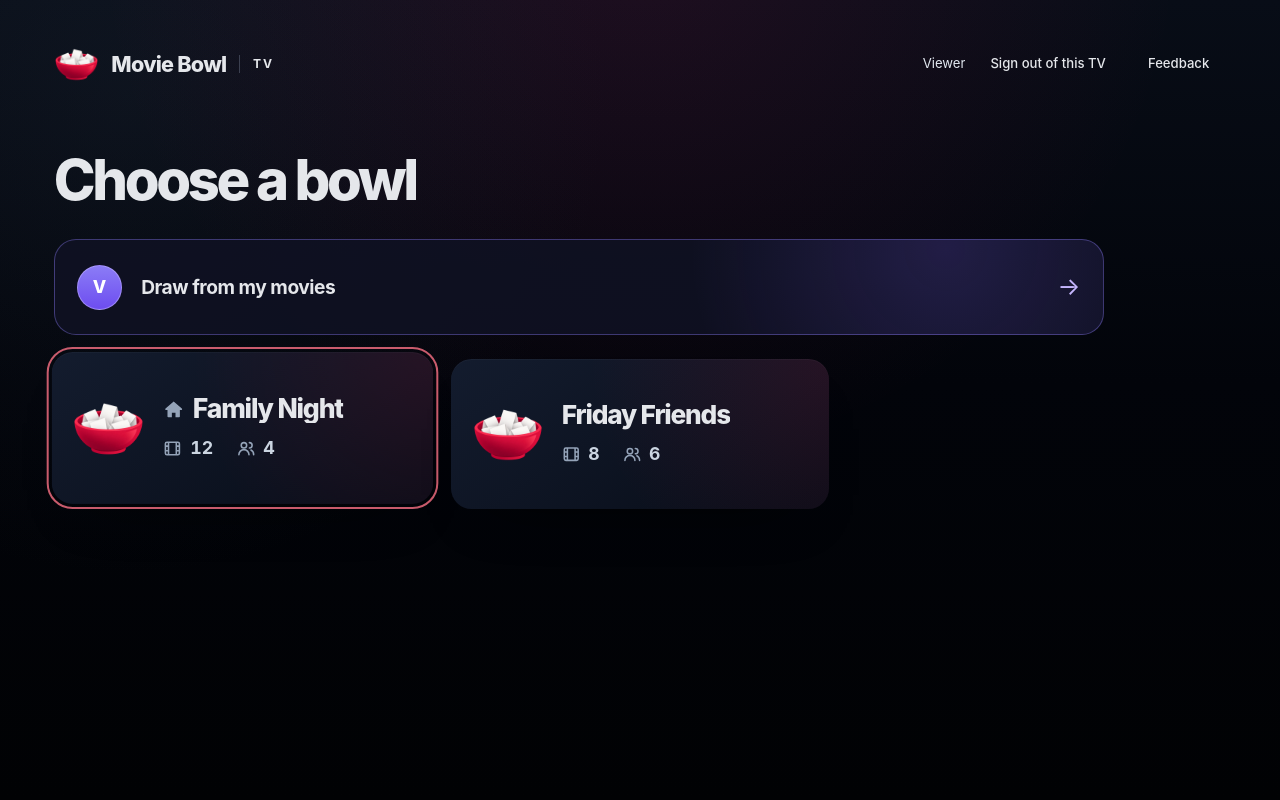
Scenario: Movie Bowl TV experience › shows a code that opens feedback about the TV on a phone, and Back closes it
Click the button "Feedback" at (1179, 64), box [1131,40,1226,88]
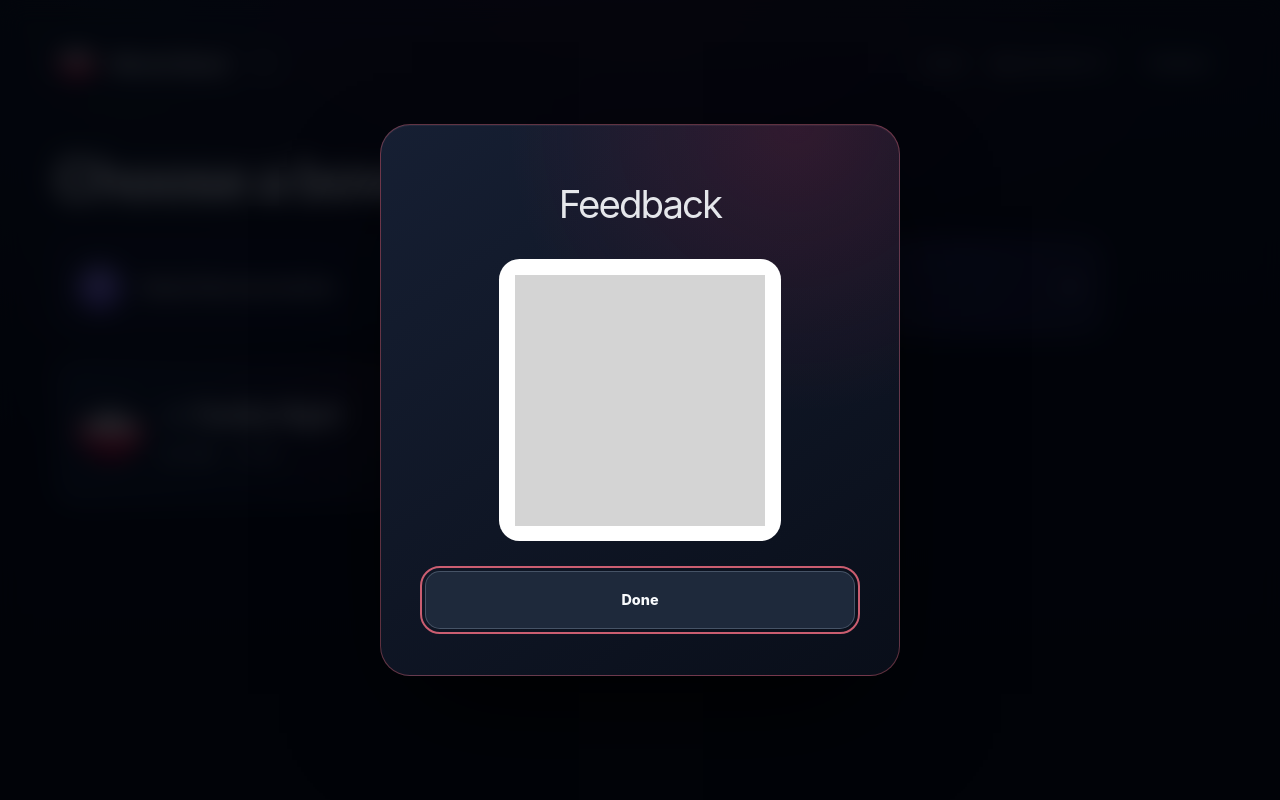
Now the element that starts with "Movie Bowl" has attribute inert, box [54,40,1226,509]
Press Escape
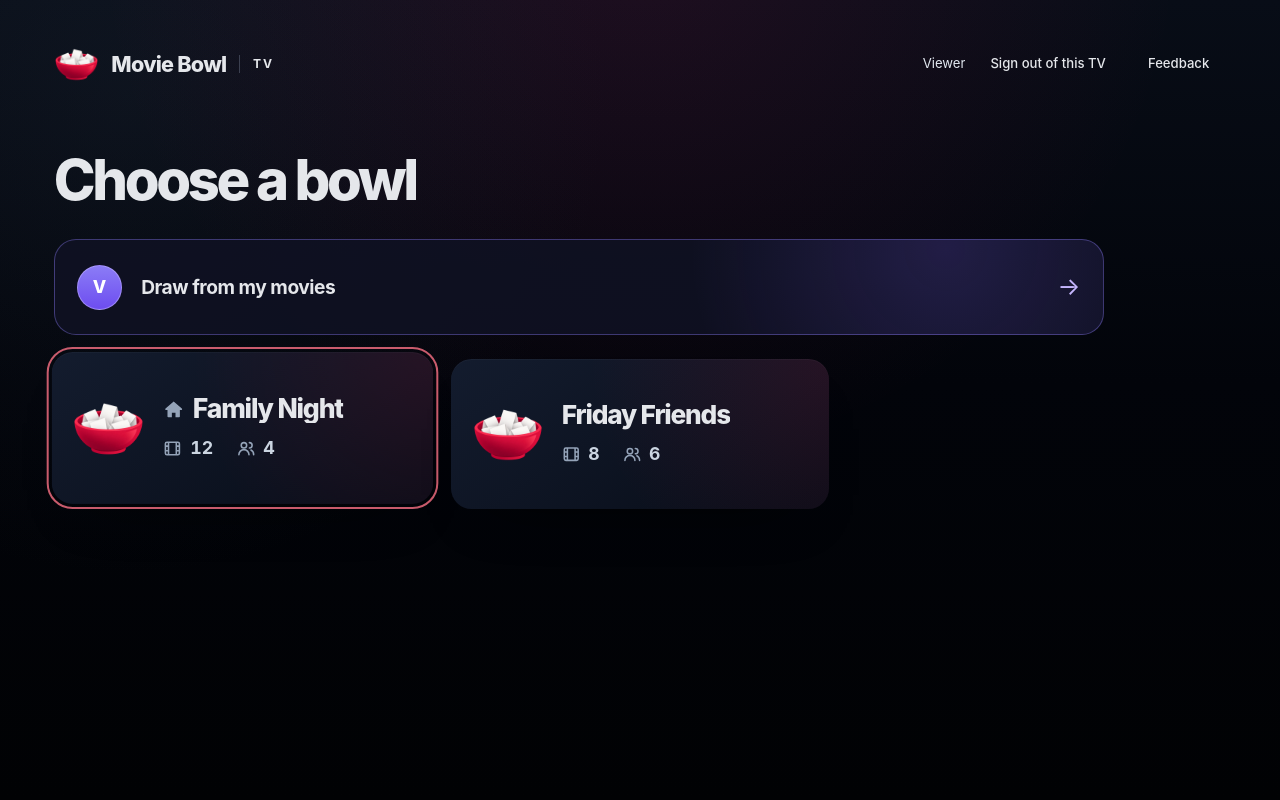
Now the dialog is gone
